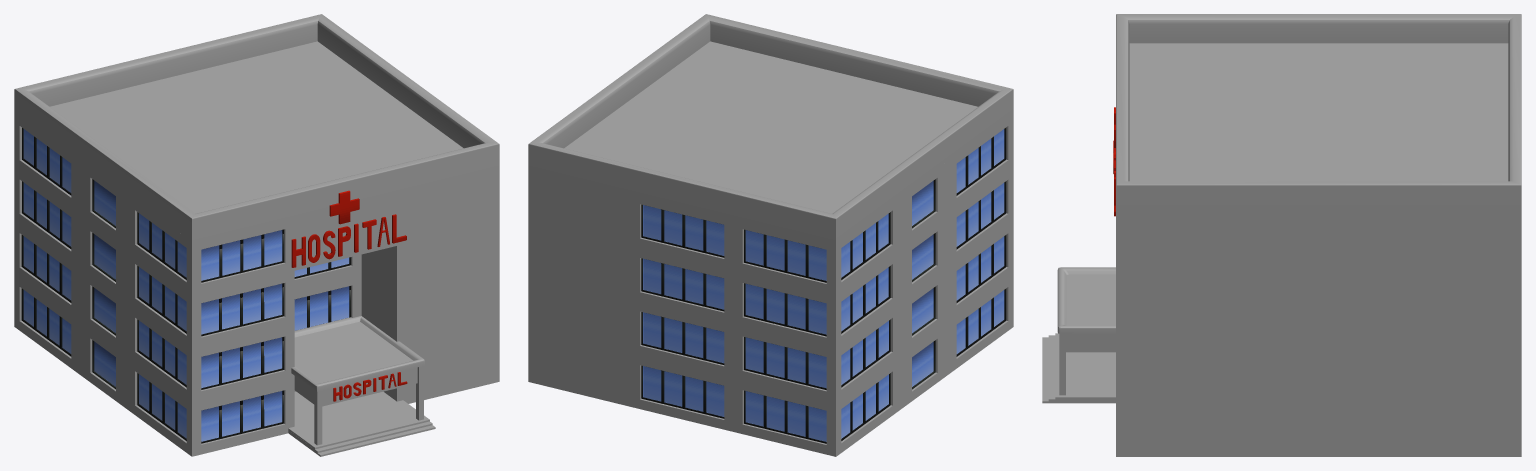
File: SM_hospital.fbx
The picture shows the model from 3 angles, left to right: view 1: azimuth 30°, elevation 25°; view 2: azimuth 150°, elevation 25°; view 3: azimuth 270°, elevation 25°; orthographic projection. The views are drawn at different scales.
Visible parts, largest first — view 1: pCube21, polySurface20, pCube3, pCube17, polySurface31, pCube20, polySurface33, polySurface32, polySurface35, polySurface34, pCube14, polySurface39 (+19 smaller); view 2: pCube21, polySurface20, pCube3, polySurface31, polySurface49, polySurface51, polySurface52, polySurface50, polySurface48, polySurface47, polySurface46, polySurface45 (+12 smaller); view 3: pCube3, pCube21, pCube17, pCube20, pCube4, pCube19, pCube18.
Boxes of the visible parts, bbox=[...] form: pCube21: bbox=[14, 14, 499, 241]; polySurface20: bbox=[14, 112, 294, 456]; pCube3: bbox=[361, 167, 499, 403]; pCube17: bbox=[291, 316, 424, 391]; polySurface31: bbox=[294, 192, 396, 391]; pCube20: bbox=[288, 391, 429, 449]; polySurface33: bbox=[201, 283, 283, 336]; polySurface32: bbox=[201, 229, 283, 282]; polySurface35: bbox=[201, 390, 283, 443]; polySurface34: bbox=[201, 337, 283, 389]; pCube14: bbox=[291, 214, 406, 267]; polySurface39: bbox=[294, 286, 350, 330]; pCube21: bbox=[528, 14, 1013, 242]; polySurface20: bbox=[733, 112, 1013, 456]; pCube3: bbox=[528, 167, 630, 406]; polySurface31: bbox=[631, 192, 733, 431]; polySurface49: bbox=[641, 258, 724, 311]; polySurface51: bbox=[641, 365, 724, 418]; polySurface52: bbox=[641, 204, 724, 257]; polySurface50: bbox=[641, 312, 724, 364]; polySurface48: bbox=[744, 229, 826, 282]; polySurface47: bbox=[744, 390, 826, 443]; polySurface46: bbox=[744, 283, 826, 336]; polySurface45: bbox=[744, 337, 826, 389]; pCube3: bbox=[1116, 212, 1521, 456]; pCube21: bbox=[1116, 14, 1521, 211]; pCube17: bbox=[1057, 267, 1115, 333]; pCube20: bbox=[1055, 333, 1115, 399]; pCube4: bbox=[1066, 333, 1115, 352]; pCube19: bbox=[1048, 335, 1115, 401]; pCube18: bbox=[1042, 337, 1115, 403].
Size of the model in its own units: 1500 by 1110 by 1773.
